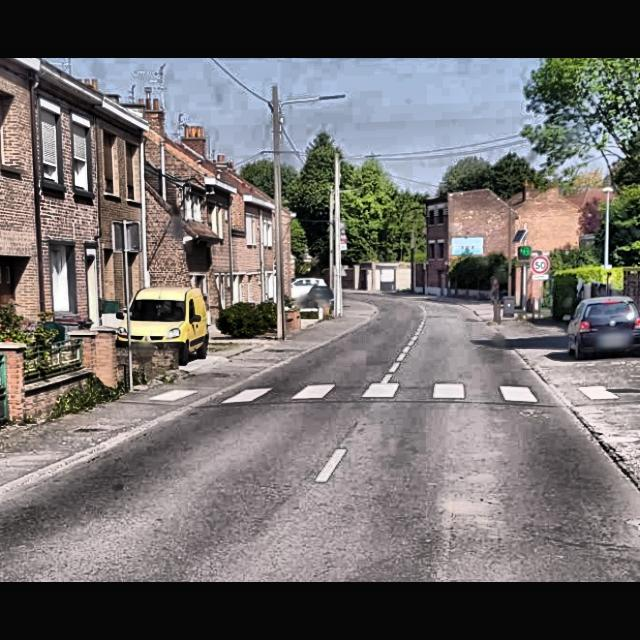speed_50: (531, 256, 549, 274)
